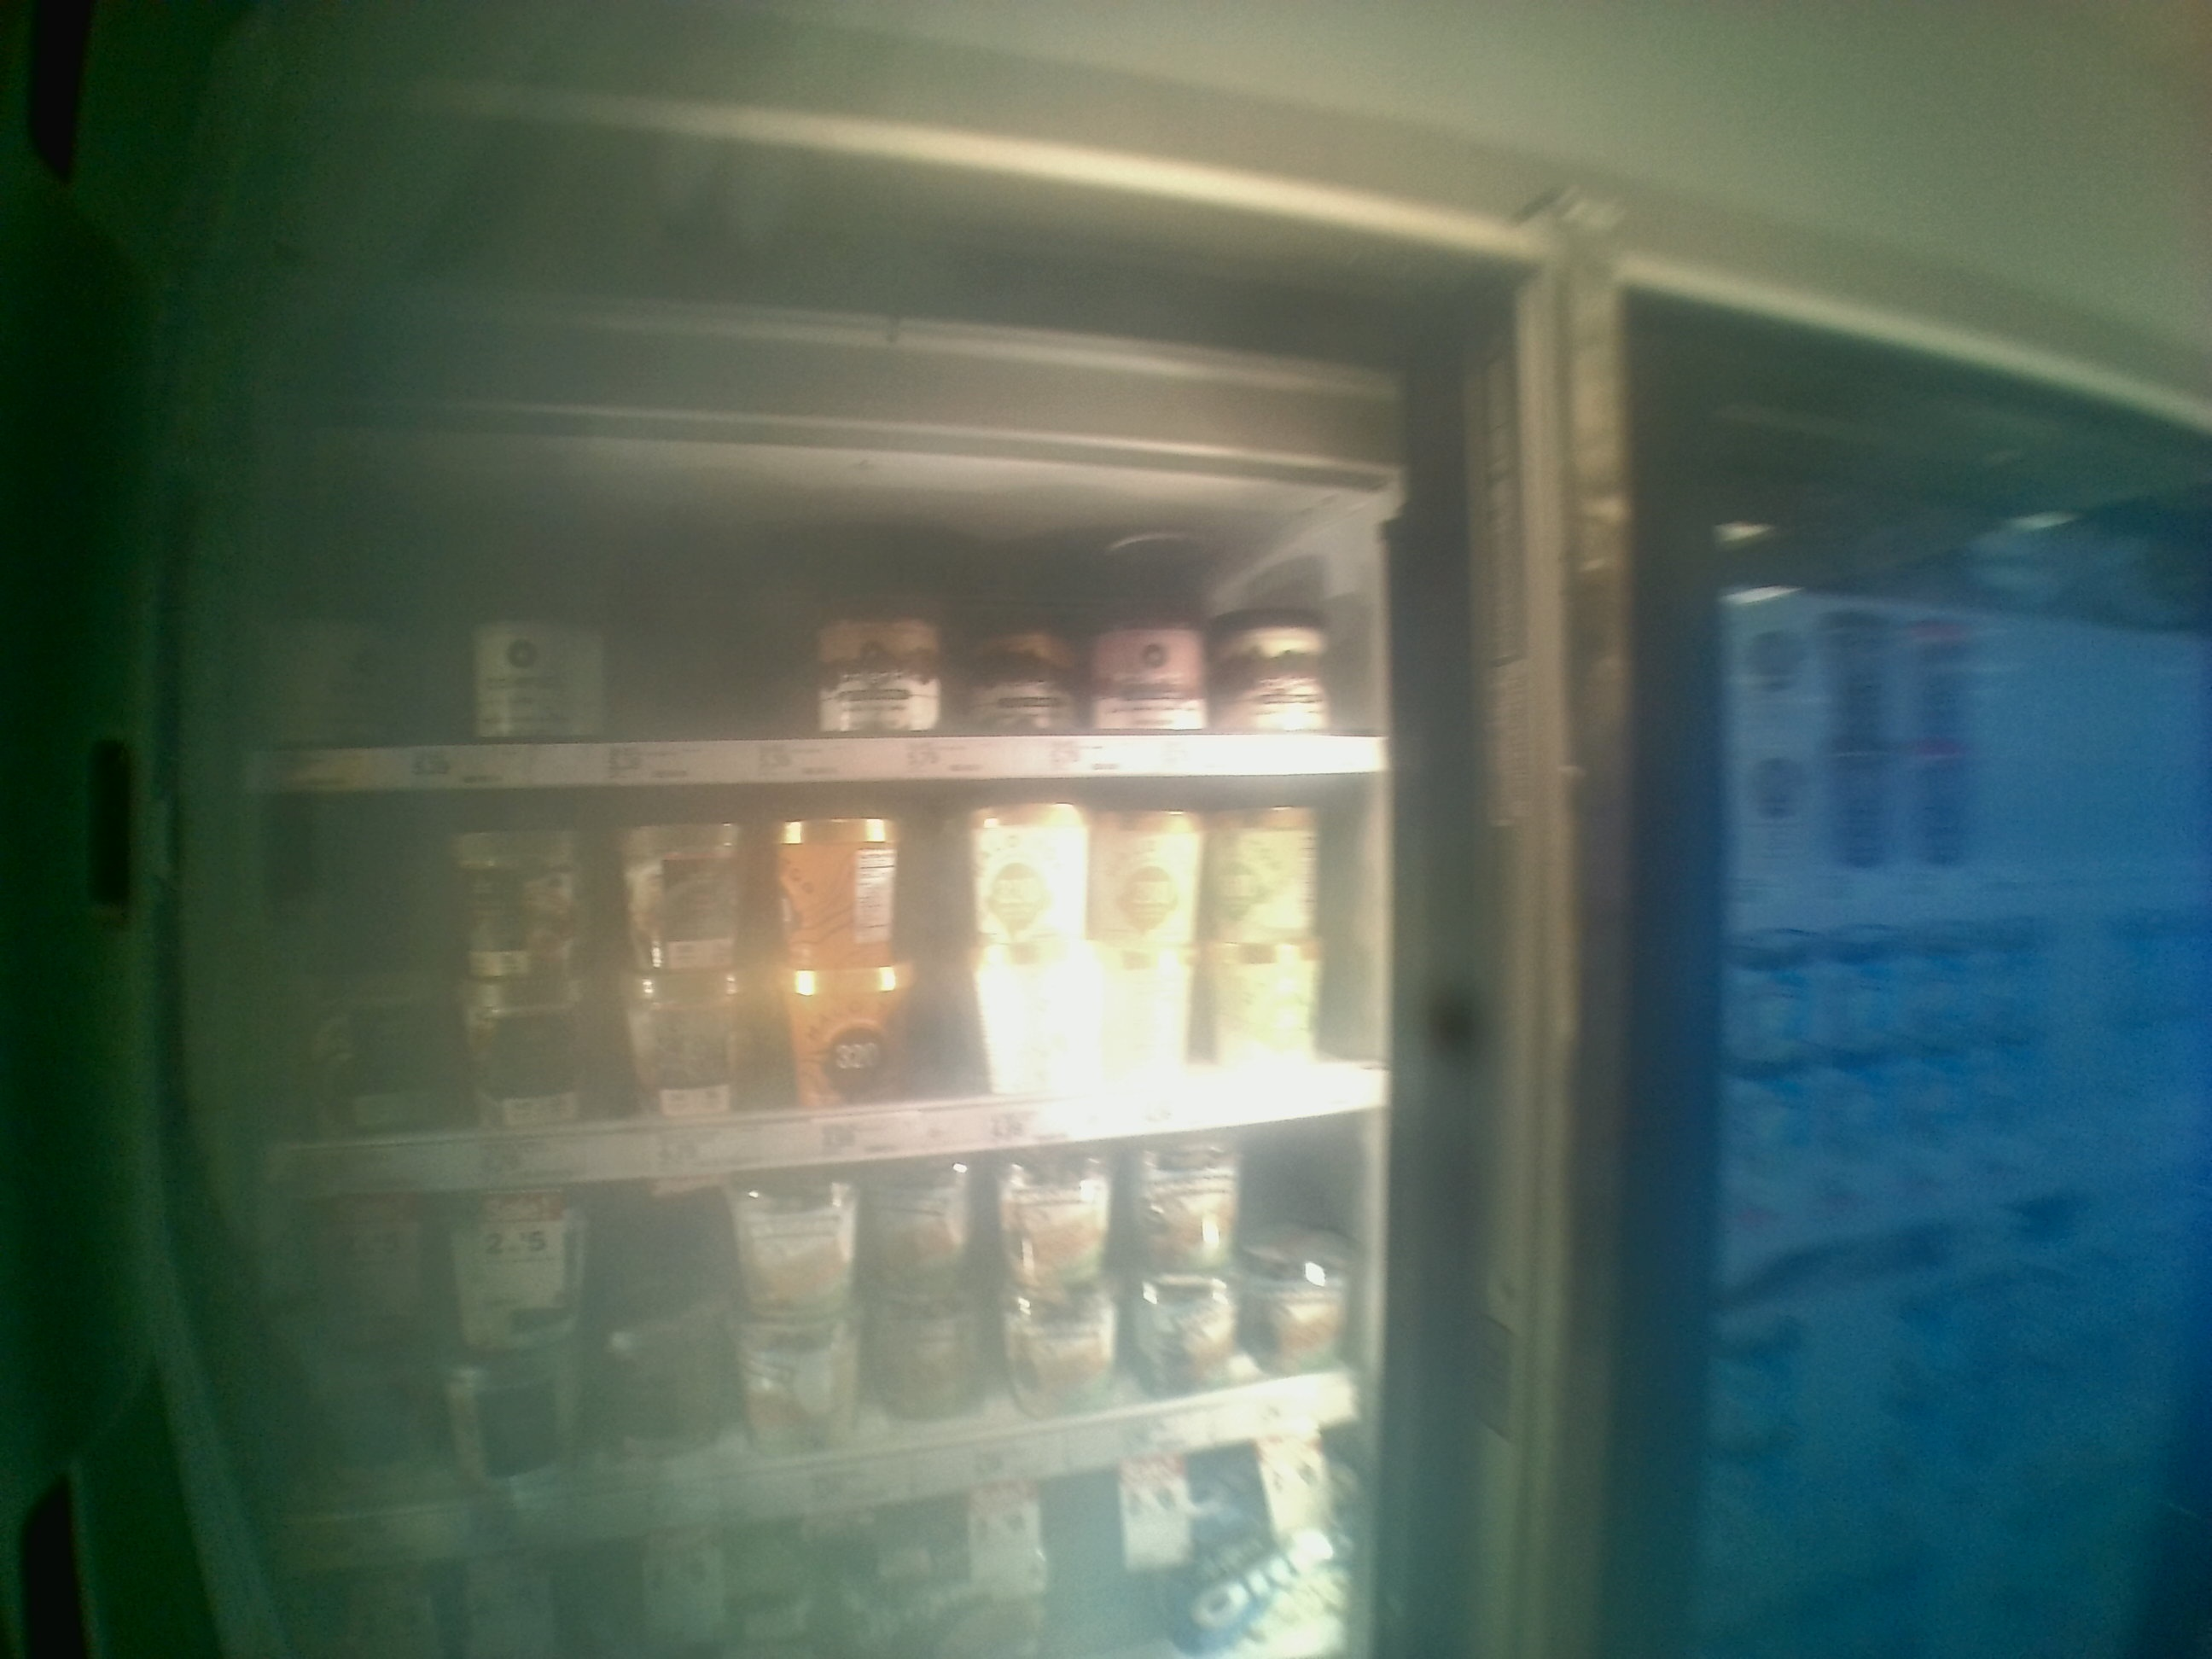shelf: (244, 782, 1411, 1195), (251, 436, 1406, 782)
